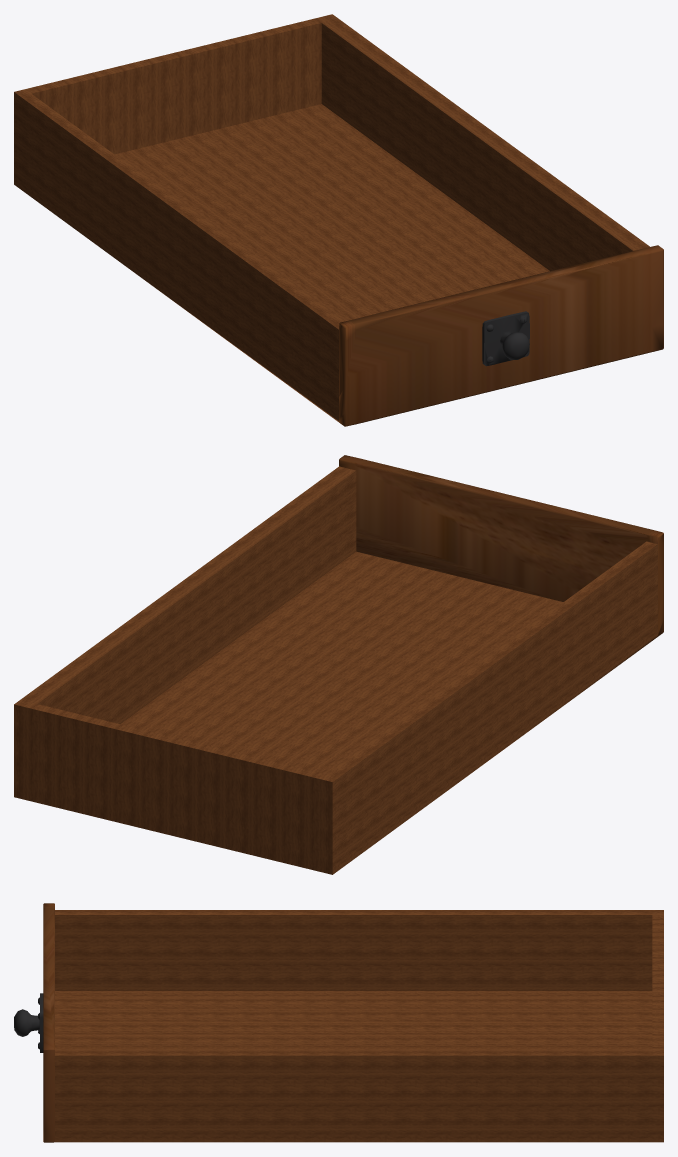
File: desk_right_drawer.glb
The picture shows the model from 3 angles, top to bottom: view 1: azimuth 30°, elevation 25°; view 2: azimuth 150°, elevation 25°; view 3: azimuth 270°, elevation 25°; orthographic projection. The views are drawn at different scales.
Visible parts, largest first — view 1: right_drawer; view 2: right_drawer; view 3: right_drawer.
Part boxes in pixels (<box>): right_drawer: <box>14,14,663,426</box>; right_drawer: <box>14,455,663,874</box>; right_drawer: <box>14,903,663,1142</box>.
Size of the model in its own units: 0.2889 by 0.0868 by 0.5436.
2 materials, 1 textured.
